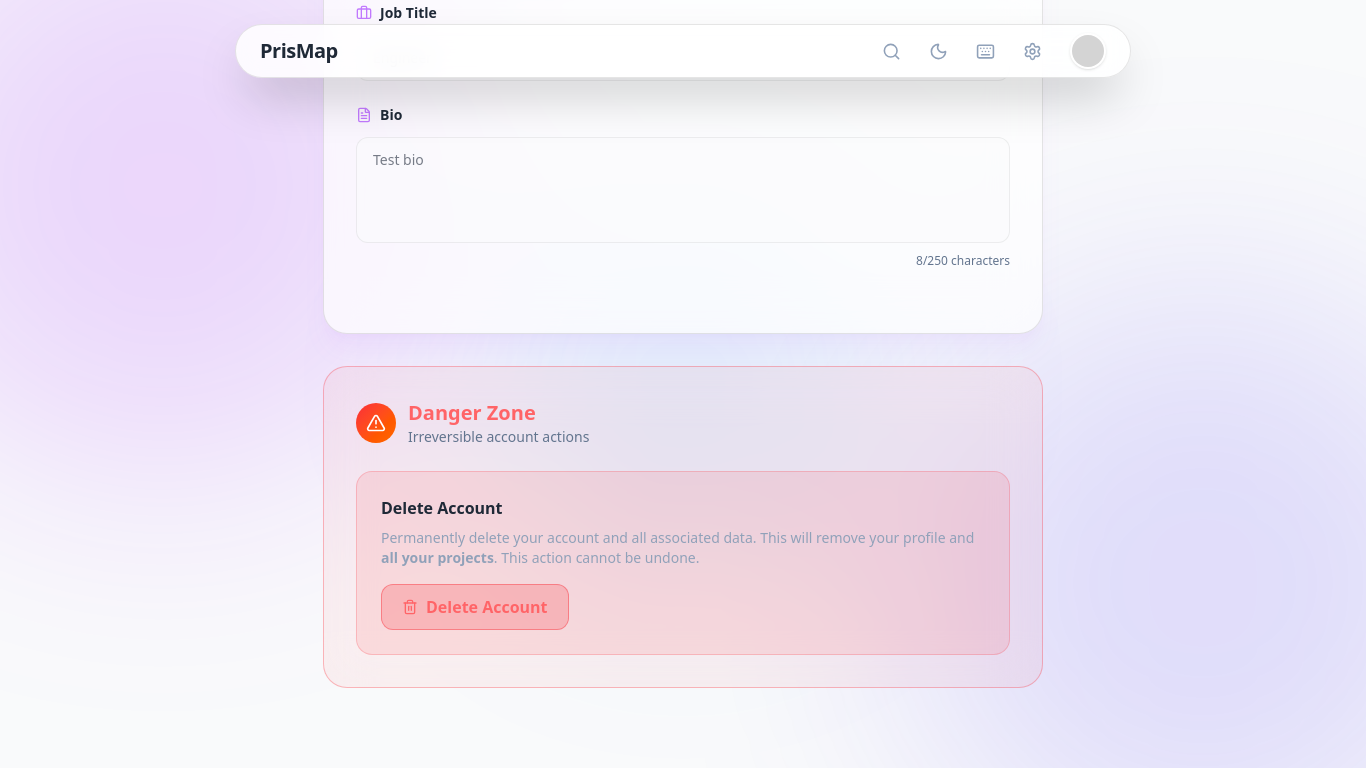
Settings Page Integration Tests › opens delete confirmation modal when Delete Account is clicked
(page scrolled)
Click the button "Delete Account".
click(475, 607)  # box [381,584,569,630]
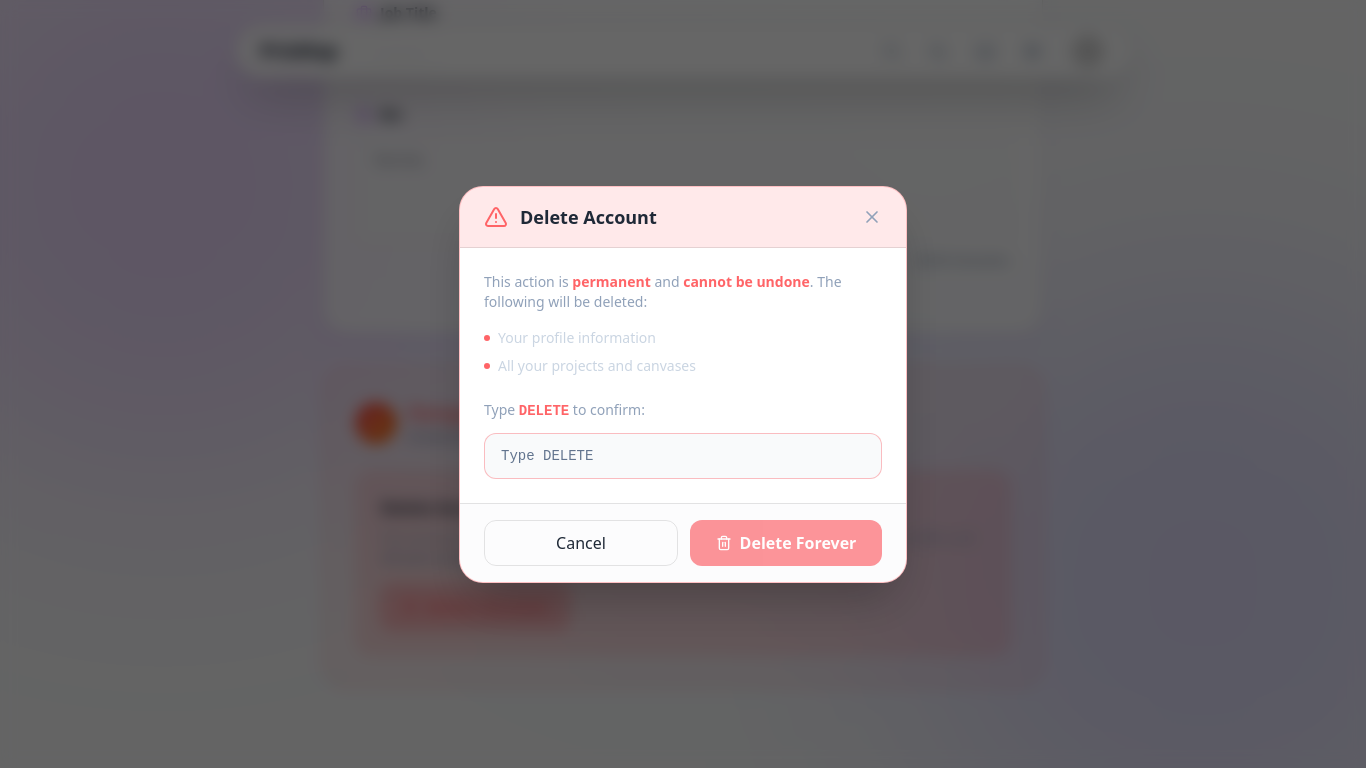
Expected: the field with placeholder "Type DELETE" is shown, [484,432,882,478]
Expected: the button "Delete Forever" is shown, [690,520,882,566]
